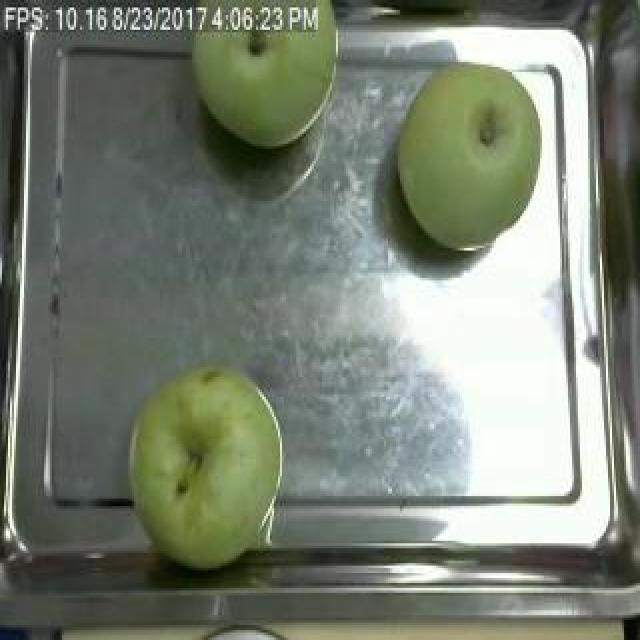Rotten Apple: (133, 357, 285, 568), (397, 49, 547, 256), (181, 0, 335, 154)
